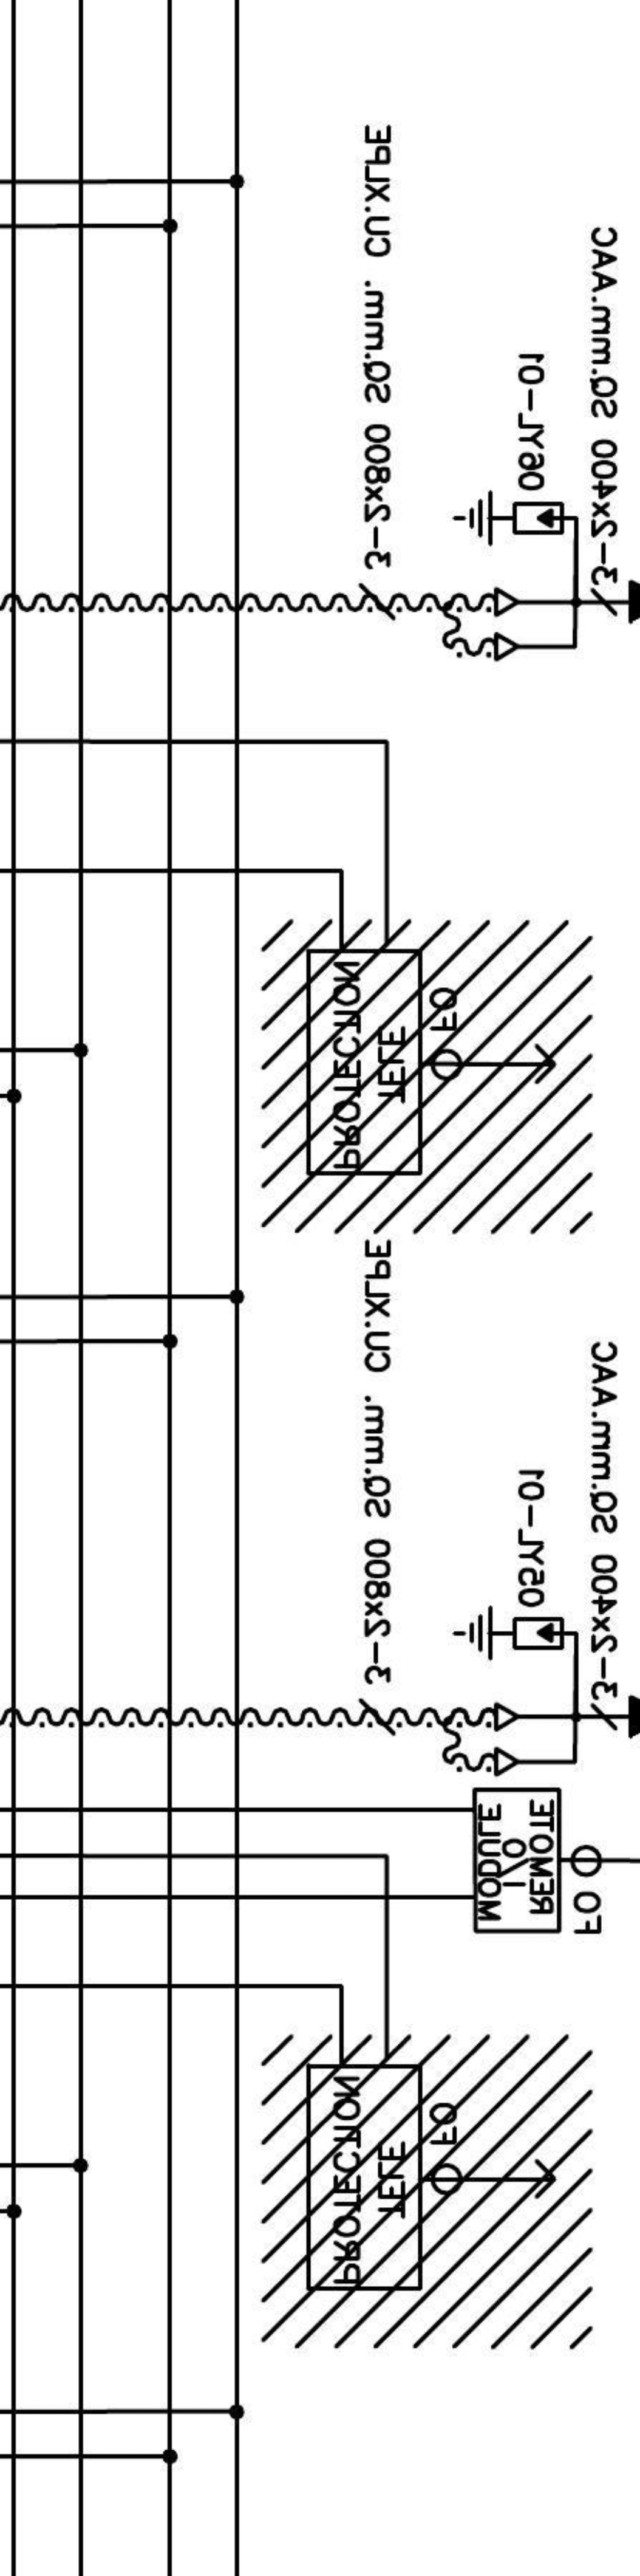115_la: (451, 490, 566, 547), (451, 1605, 566, 1663)
remote_io_module: (469, 1784, 563, 1937)
tele_protection: (302, 945, 427, 1180), (302, 2060, 425, 2295)
terminator_double: (492, 1700, 579, 1778), (492, 585, 579, 662)
